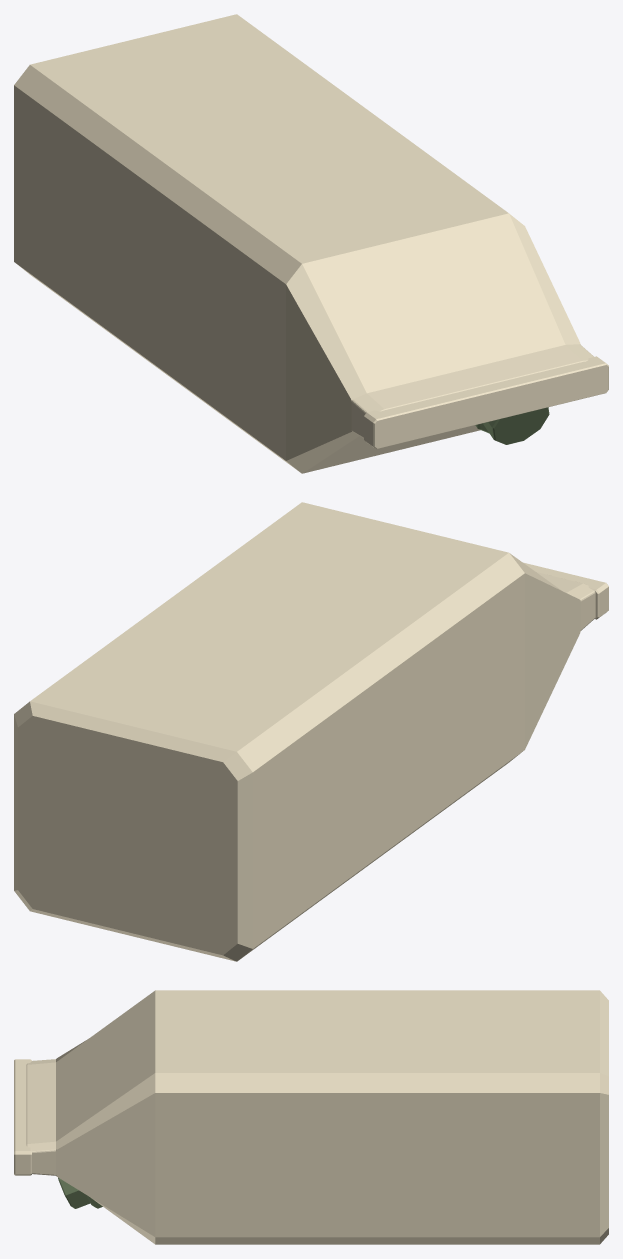
Rendered from coconut_water.glb.
The picture shows the model from 3 angles, top to bottom: view 1: azimuth 30°, elevation 25°; view 2: azimuth 150°, elevation 25°; view 3: azimuth 270°, elevation 25°; orthographic projection. The views are drawn at different scales.
Parts seen in each view (by area): view 1: coconut_water; view 2: coconut_water; view 3: coconut_water.
Part boxes in pixels (left/top/right/bottom): coconut_water: left=14, top=14, right=608, bottom=473; coconut_water: left=14, top=502, right=608, bottom=961; coconut_water: left=14, top=990, right=608, bottom=1244.
Size of the model in its own units: 0.075 by 0.0674 by 0.198.
